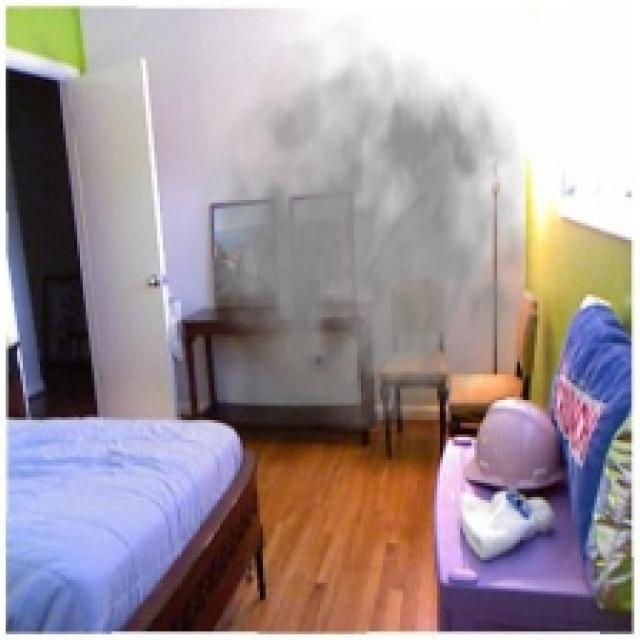smoke: (177, 14, 546, 434)
